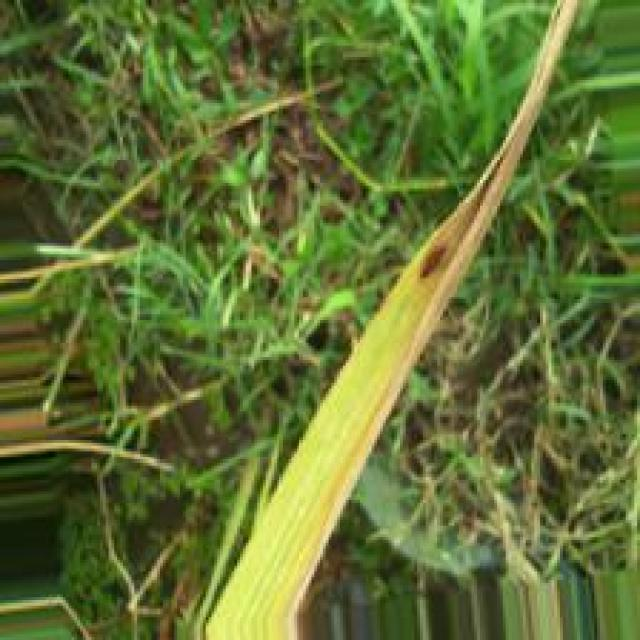Narrow_Brown_Leaf_Spot: (278, 19, 572, 614)
